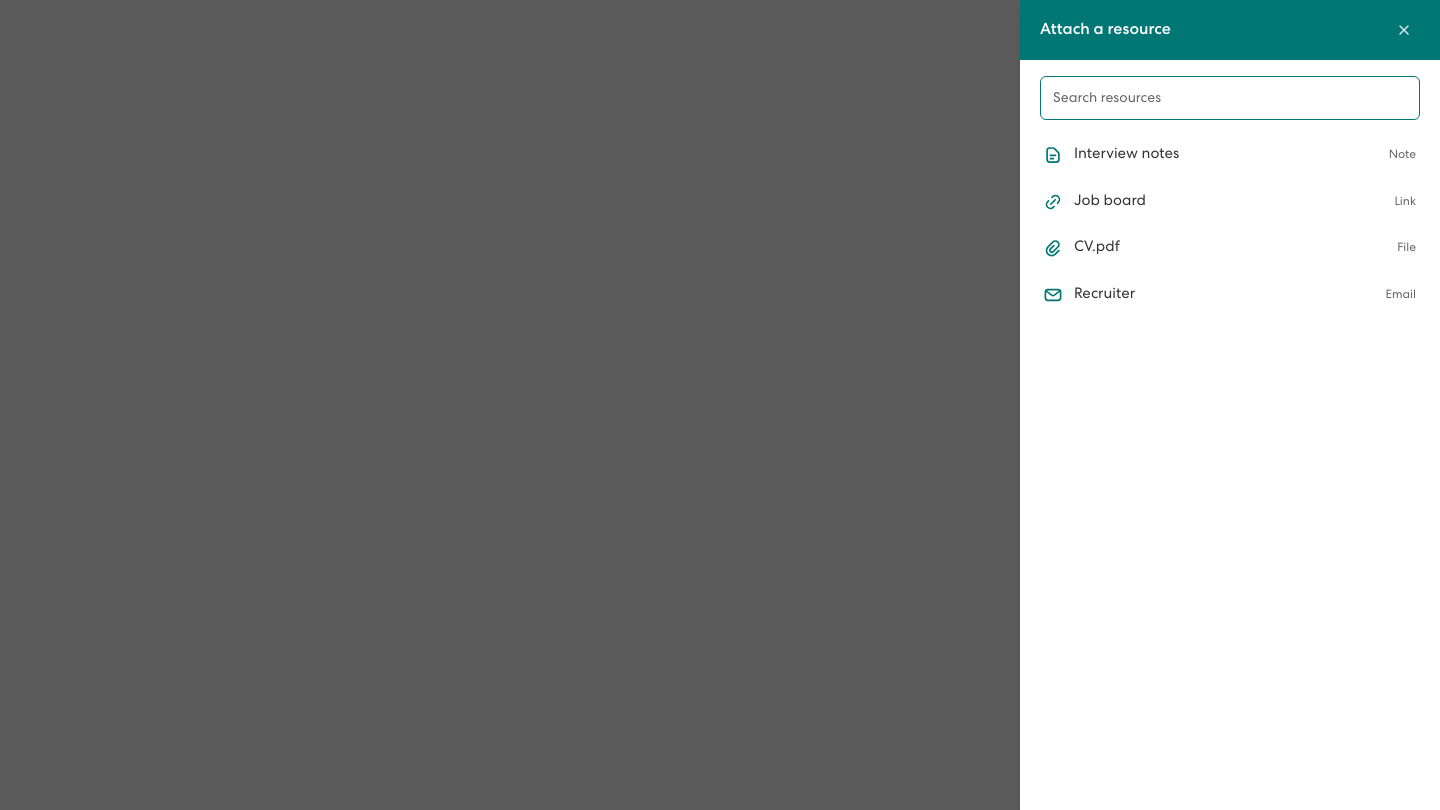
the resource attach sheet › empties the search with the word Clear, never a cross
Expected: the text "Clear" is not shown
In the field labelled "Search resources": {"x": 1230, "y": 98} [1040,76,1420,120], type "Job"
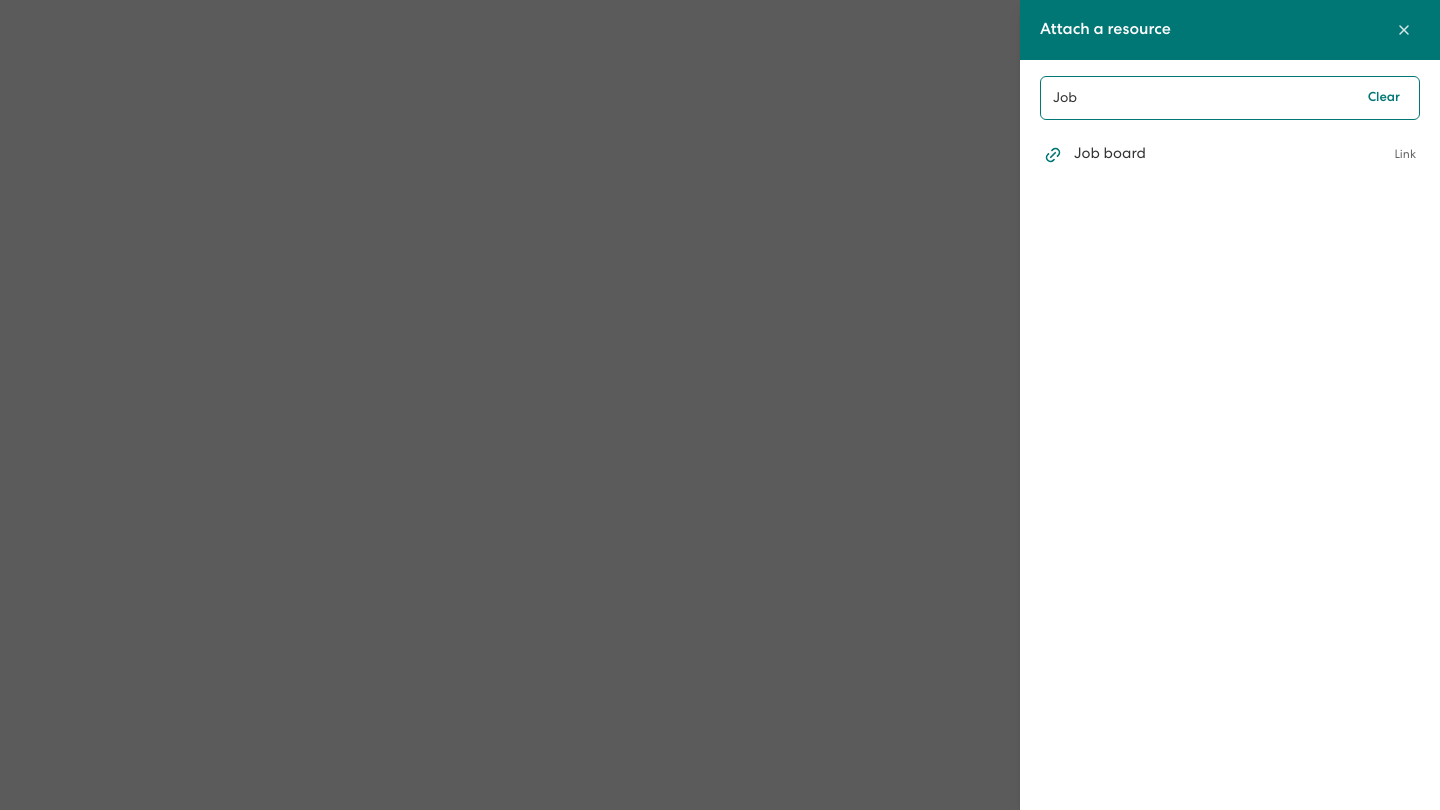
Click the button "Clear": {"x": 1384, "y": 98} [1364,88,1404,108]
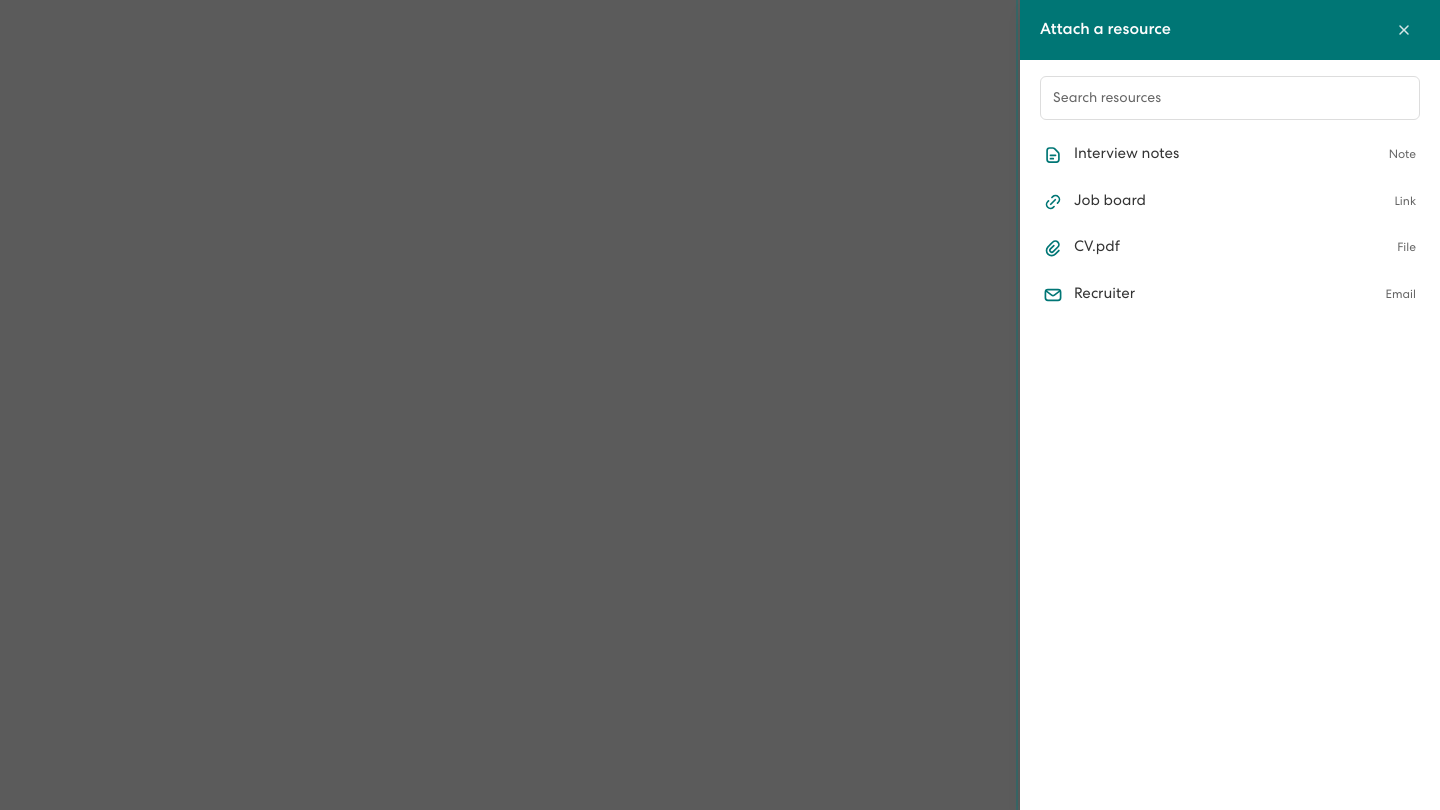
Expected: the field labelled "Search resources" is empty, [1040,76,1420,120]
Expected: the text "Interview notes" is shown, [1074,147,1179,162]
